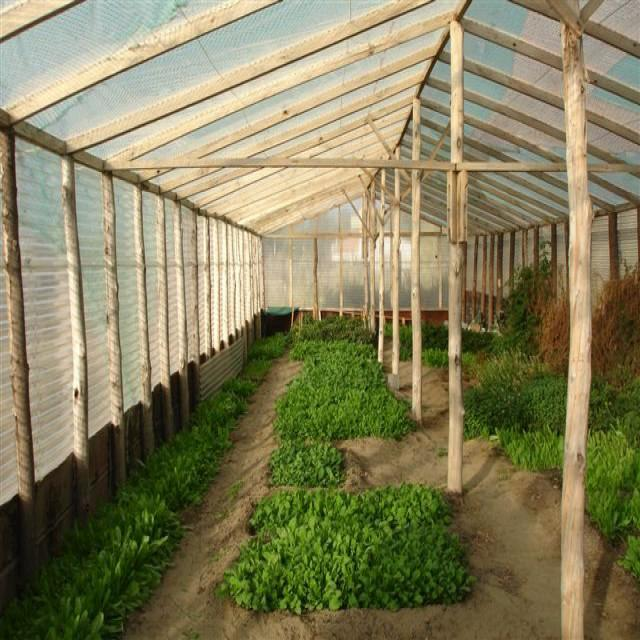beam: (559, 0, 590, 635), (445, 17, 464, 492), (102, 156, 637, 172), (410, 99, 420, 425), (389, 145, 399, 371)
greenhouse: (1, 0, 638, 636)
plants: (1, 332, 287, 636), (387, 256, 639, 575), (228, 481, 475, 612), (274, 383, 409, 436), (291, 313, 385, 384), (268, 437, 339, 483)
